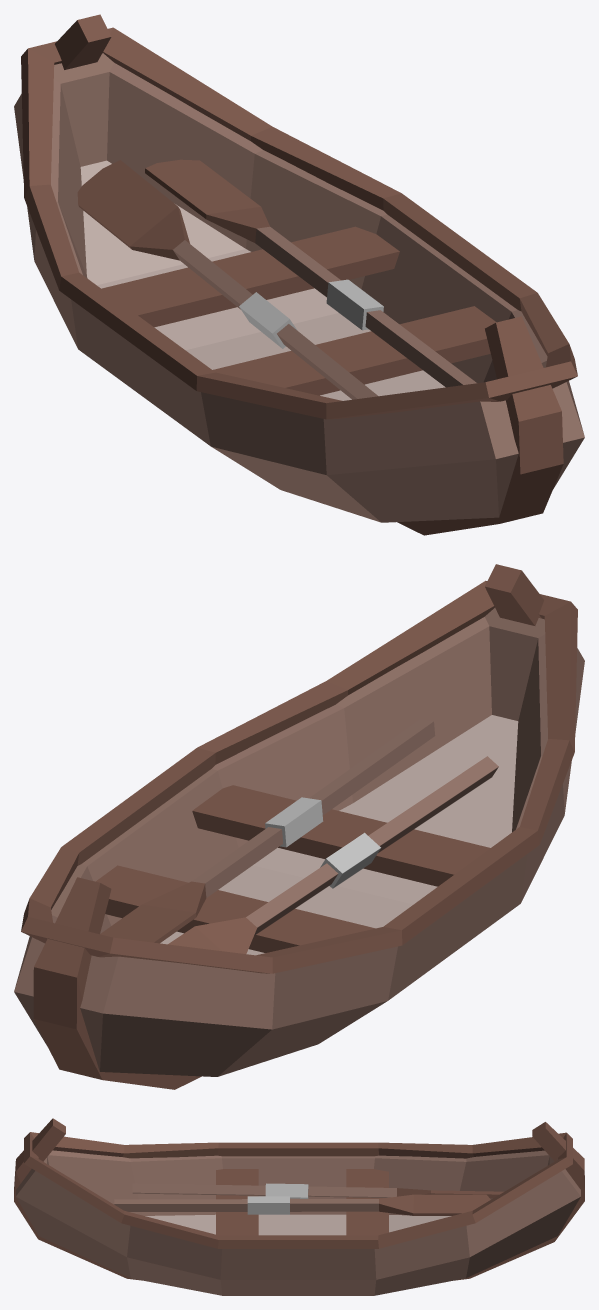
The model's file is prop_027.fbx.
The picture shows the model from 3 angles, top to bottom: view 1: azimuth 30°, elevation 25°; view 2: azimuth 150°, elevation 25°; view 3: azimuth 270°, elevation 25°; orthographic projection. The views are drawn at different scales.
Parts seen in each view (by area): view 1: prop.027; view 2: prop.027; view 3: prop.027.
Part boxes in pixels (bbox=[...]): prop.027: bbox=[14, 14, 584, 535]; prop.027: bbox=[14, 564, 584, 1089]; prop.027: bbox=[14, 1118, 584, 1295].
Bounding box in the file's own units: 271 × 208 × 666.
1 material, 1 textured.
